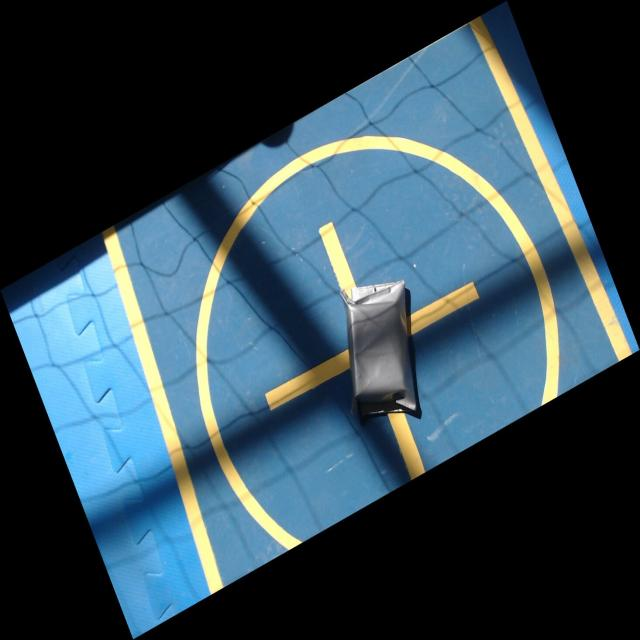vertical: (341, 281, 416, 415)
